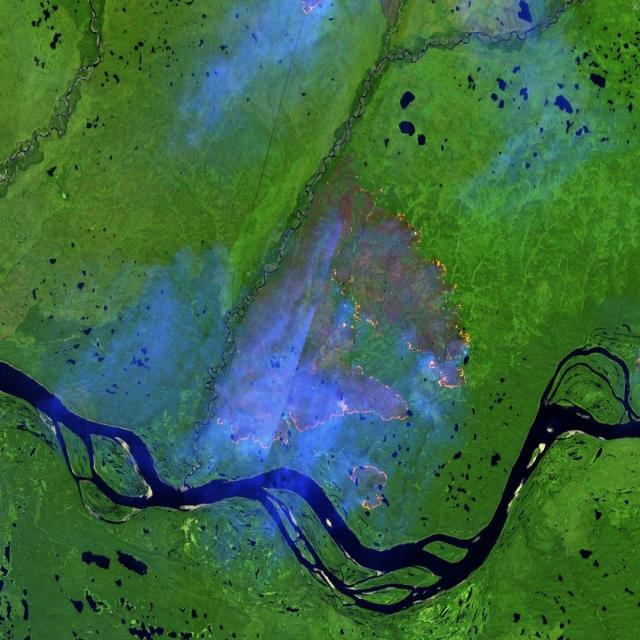fire: (212, 196, 477, 521)
